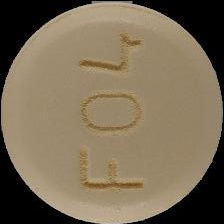68180-554: (0, 0, 224, 224)
